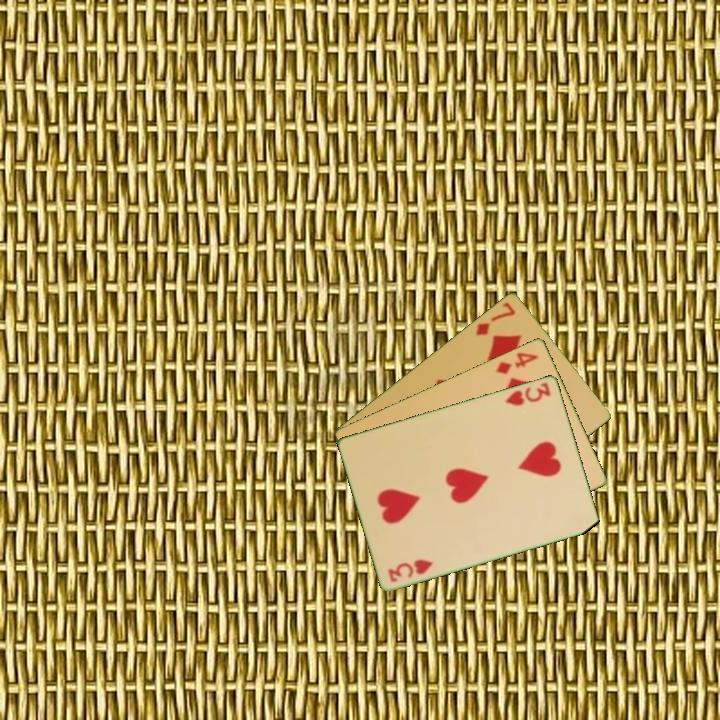3h: (501, 378, 554, 408), (384, 555, 436, 585)
4d: (492, 348, 542, 377)
7d: (472, 298, 518, 338)
